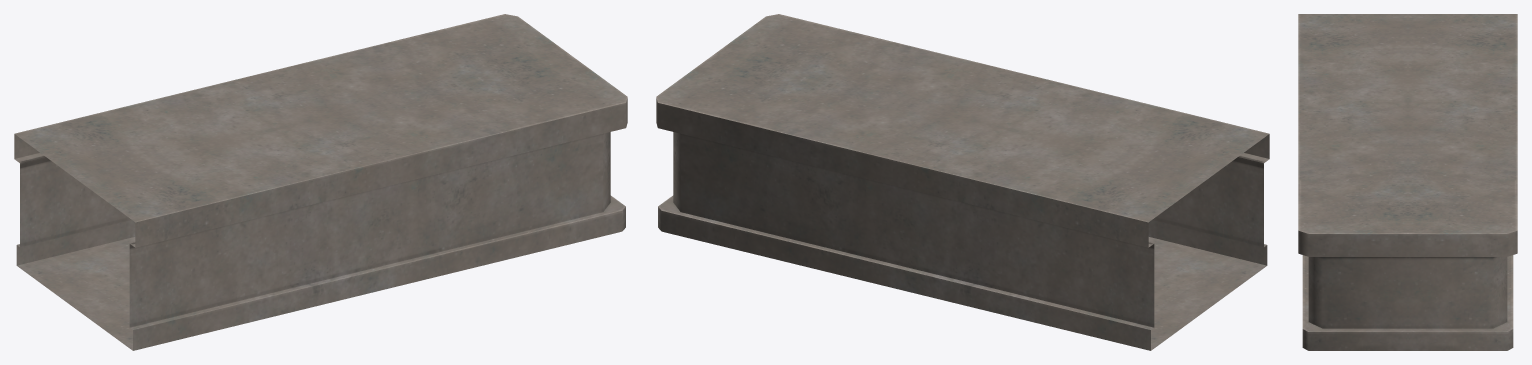
Rendered from sb_obj_outdoor009_AncientTemple_WallTopParts02C.fbx.
3 views of the same model, side by side, from view 1: azimuth 30°, elevation 25°; view 2: azimuth 150°, elevation 25°; view 3: azimuth 270°, elevation 25° (orthographic). The views are drawn at different scales.
Visible parts, largest first — view 1: sb_obj_outdoor009_AncientTemple_WallTopParts02C; view 2: sb_obj_outdoor009_AncientTemple_WallTopParts02C; view 3: sb_obj_outdoor009_AncientTemple_WallTopParts02C.
Boxes of the visible parts, bbox=[...] form: sb_obj_outdoor009_AncientTemple_WallTopParts02C: bbox=[14, 14, 627, 350]; sb_obj_outdoor009_AncientTemple_WallTopParts02C: bbox=[656, 14, 1269, 350]; sb_obj_outdoor009_AncientTemple_WallTopParts02C: bbox=[1298, 14, 1517, 350].
Bounding box in the file's own units: 3.95 × 0.987 × 1.67.
